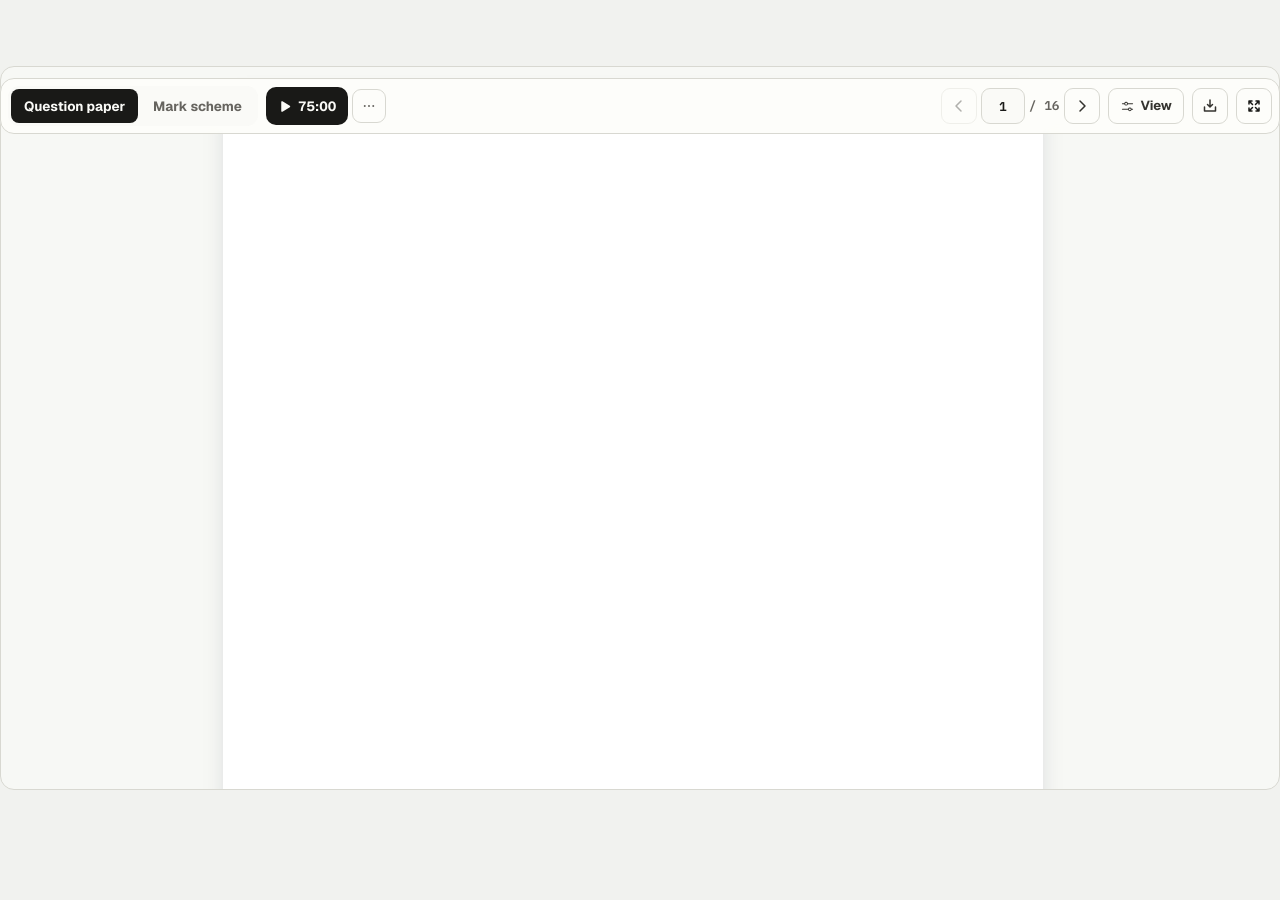
Test: PastPaperReader › clamps page input and preserves each document's reading position
The image size is (1280, 900).
Expected: the picture named "Question paper, page 1" is shown, [222,85,1042,790]
Replace the text in the number field named "Page number" with "99" at (1003, 106), box [981,88,1025,124]
Leave the number field named "Page number", box [981,88,1025,124]
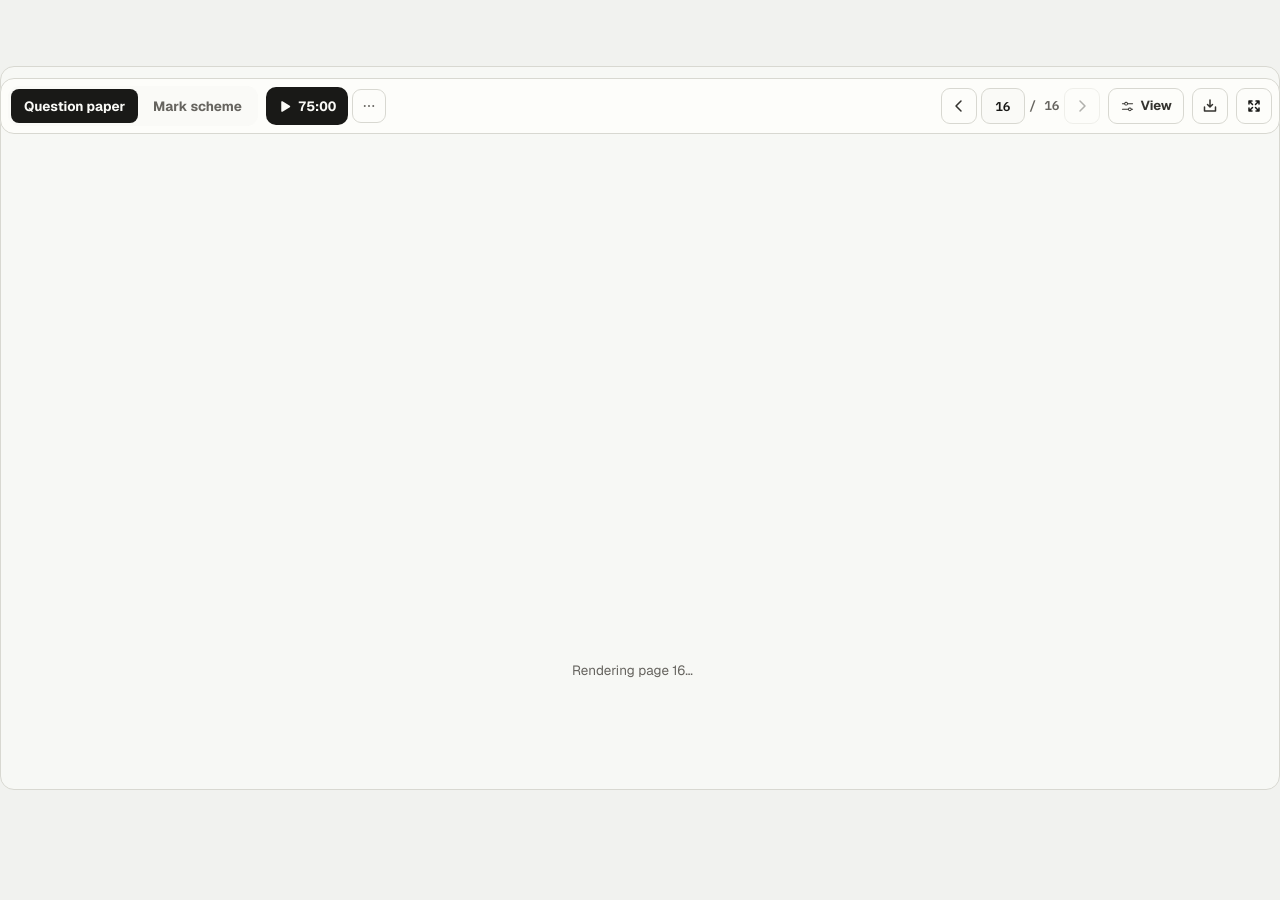
Result: the number field named "Page number" holds "16"
Result: the button named "Next page" is disabled at [1064,88,1100,124]
Replace the text in the number field named "Page number" with "0" at (1003, 106), box [981,88,1025,124]
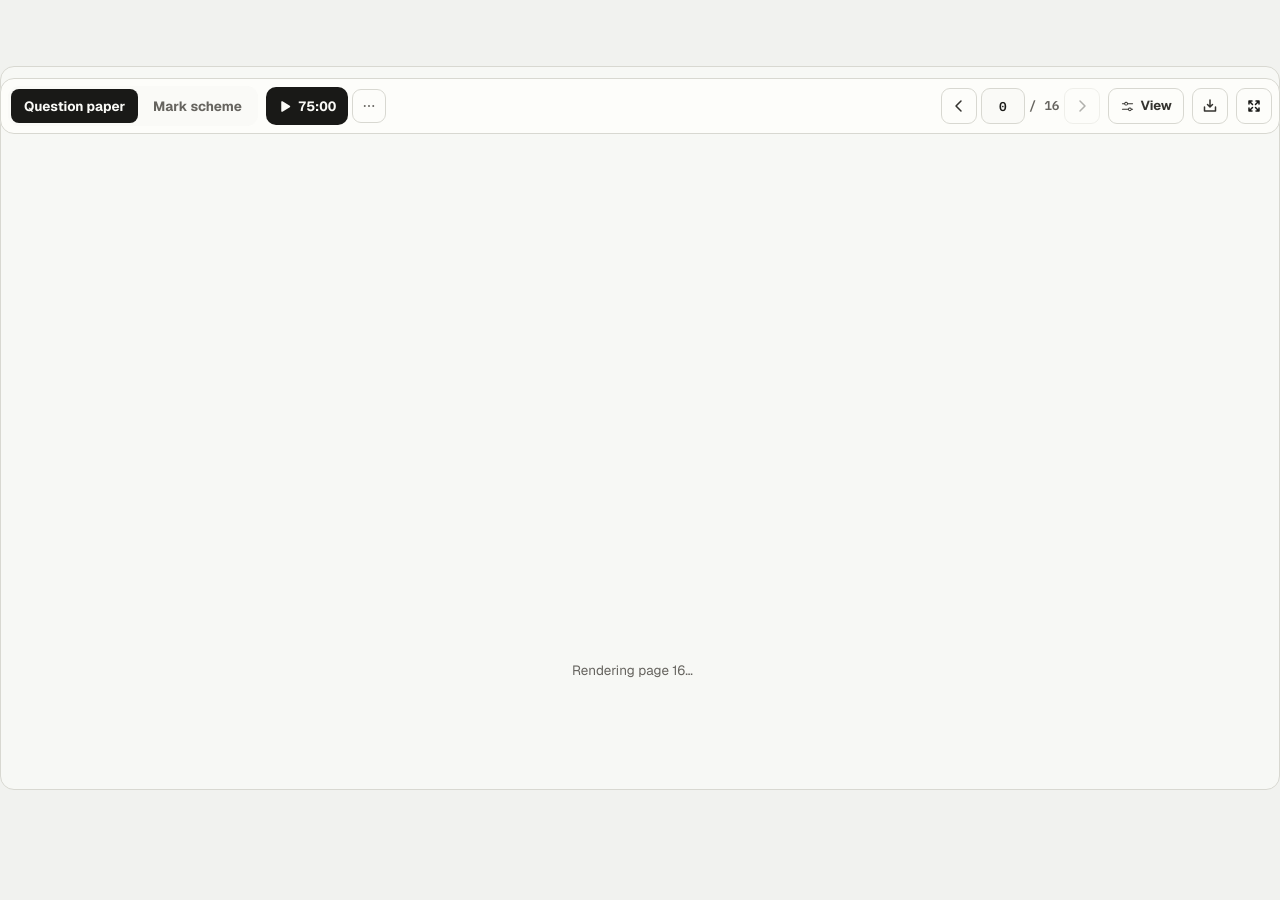
Press Enter in the number field named "Page number", box [981,88,1025,124]
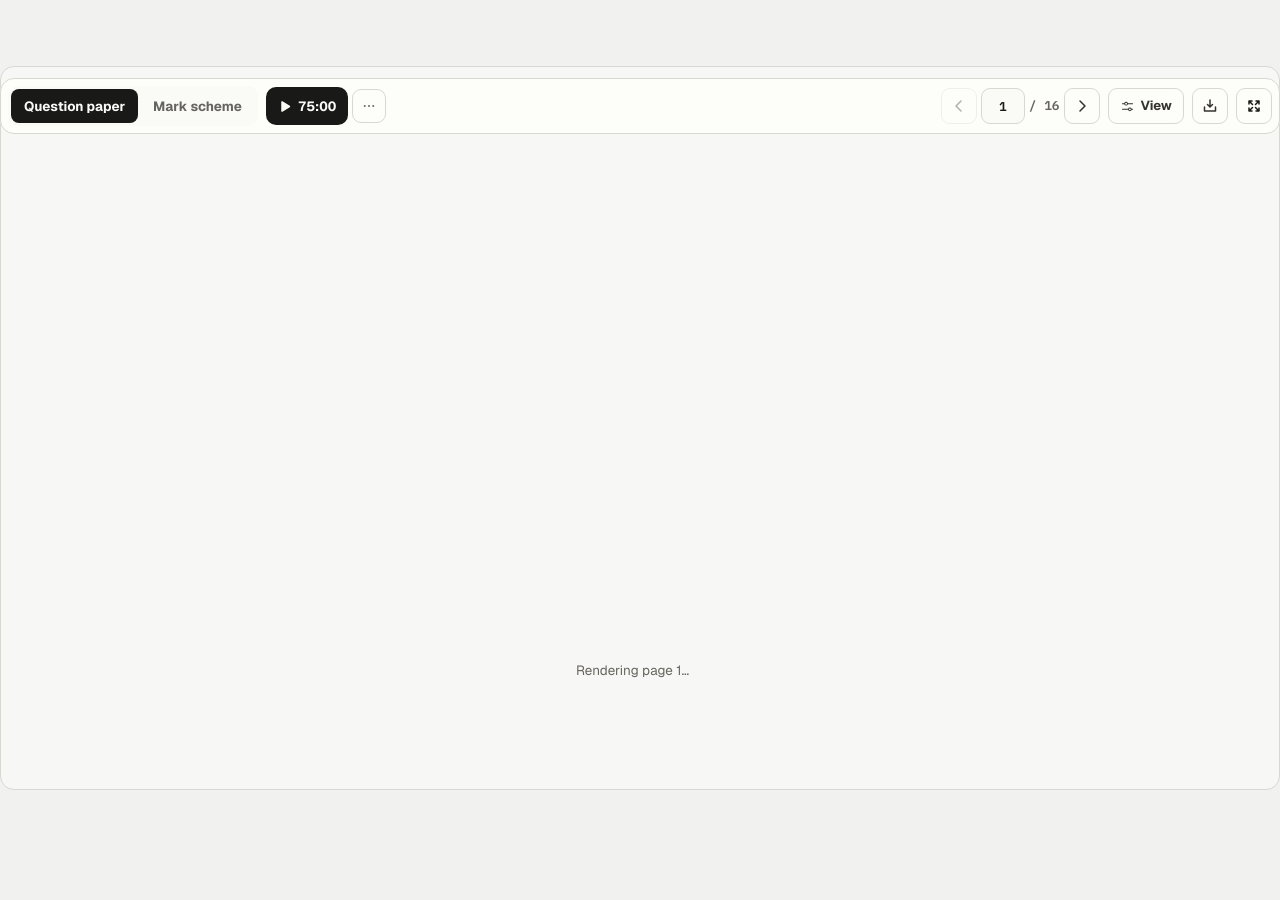
Result: the number field named "Page number" holds "1" at [981,88,1025,124]
Click the button named "Next page".
click(1082, 106)  # box [1064,88,1100,124]
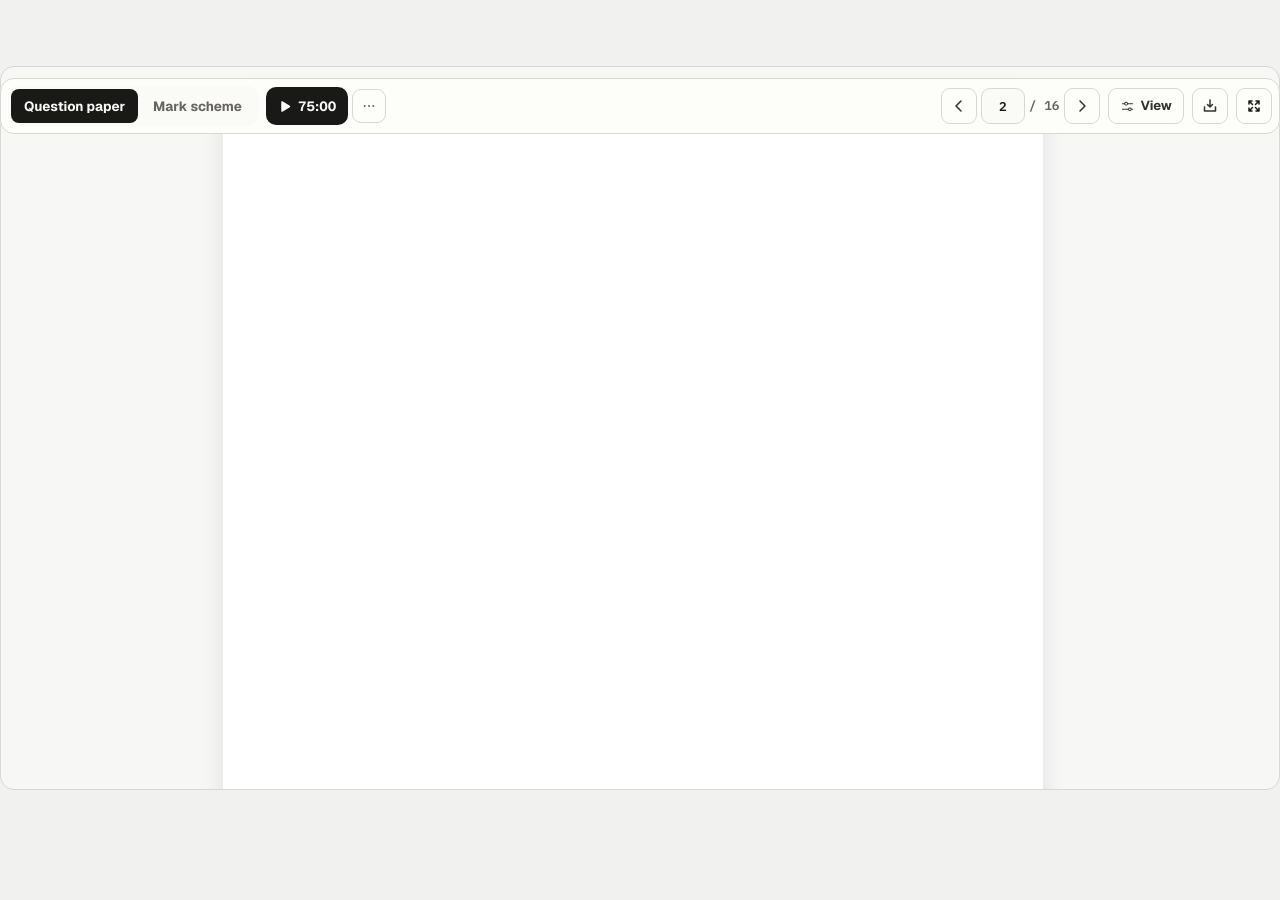
Result: the picture named "Question paper, page 2" is shown at [222,85,1042,790]
Click the tab "Mark scheme".
click(198, 106)  # box [140,89,255,123]
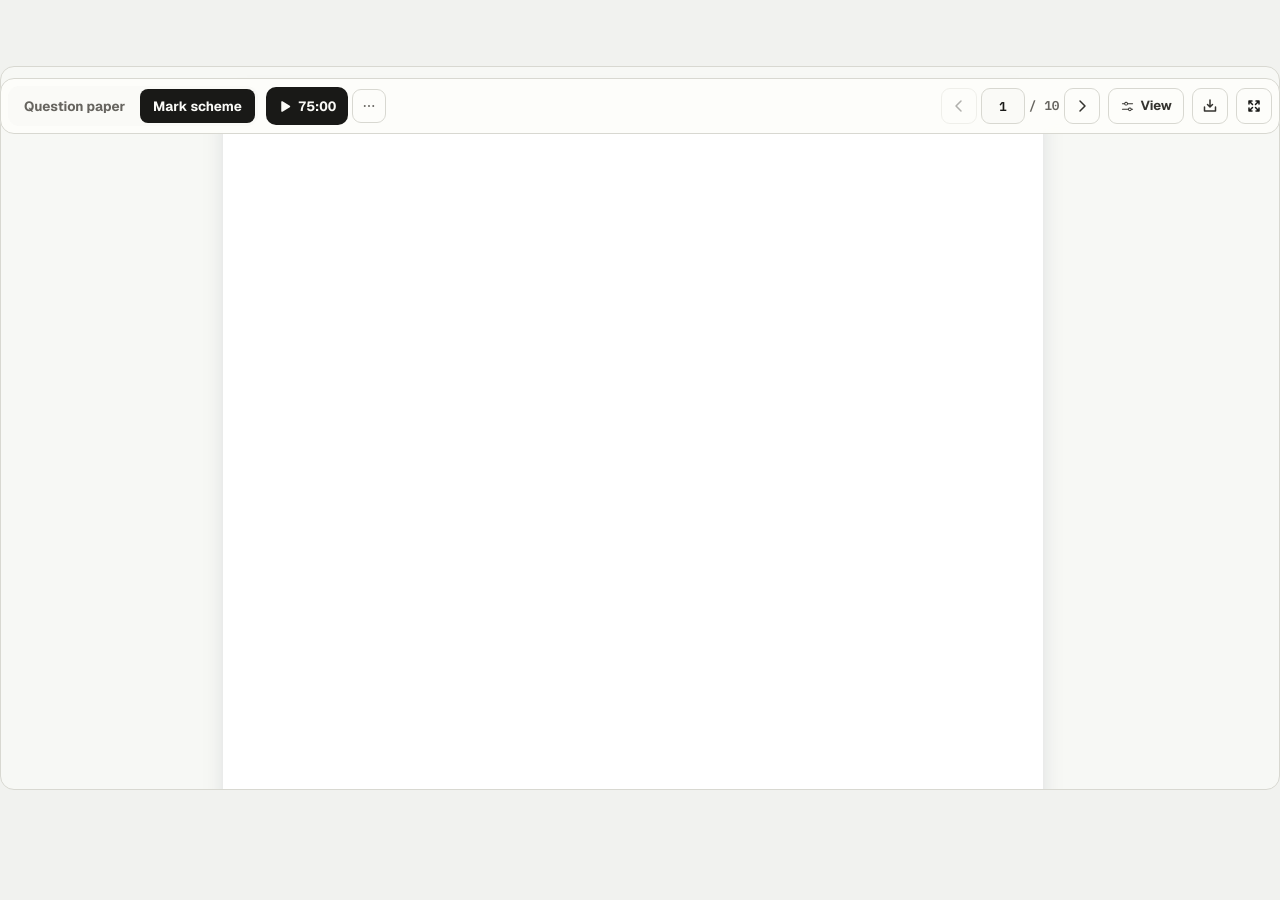
Result: the picture named "Mark scheme, page 1" is shown at [222,85,1042,790]
Click the tab "Question paper".
click(75, 106)  # box [11,89,138,123]
(page scrolled)
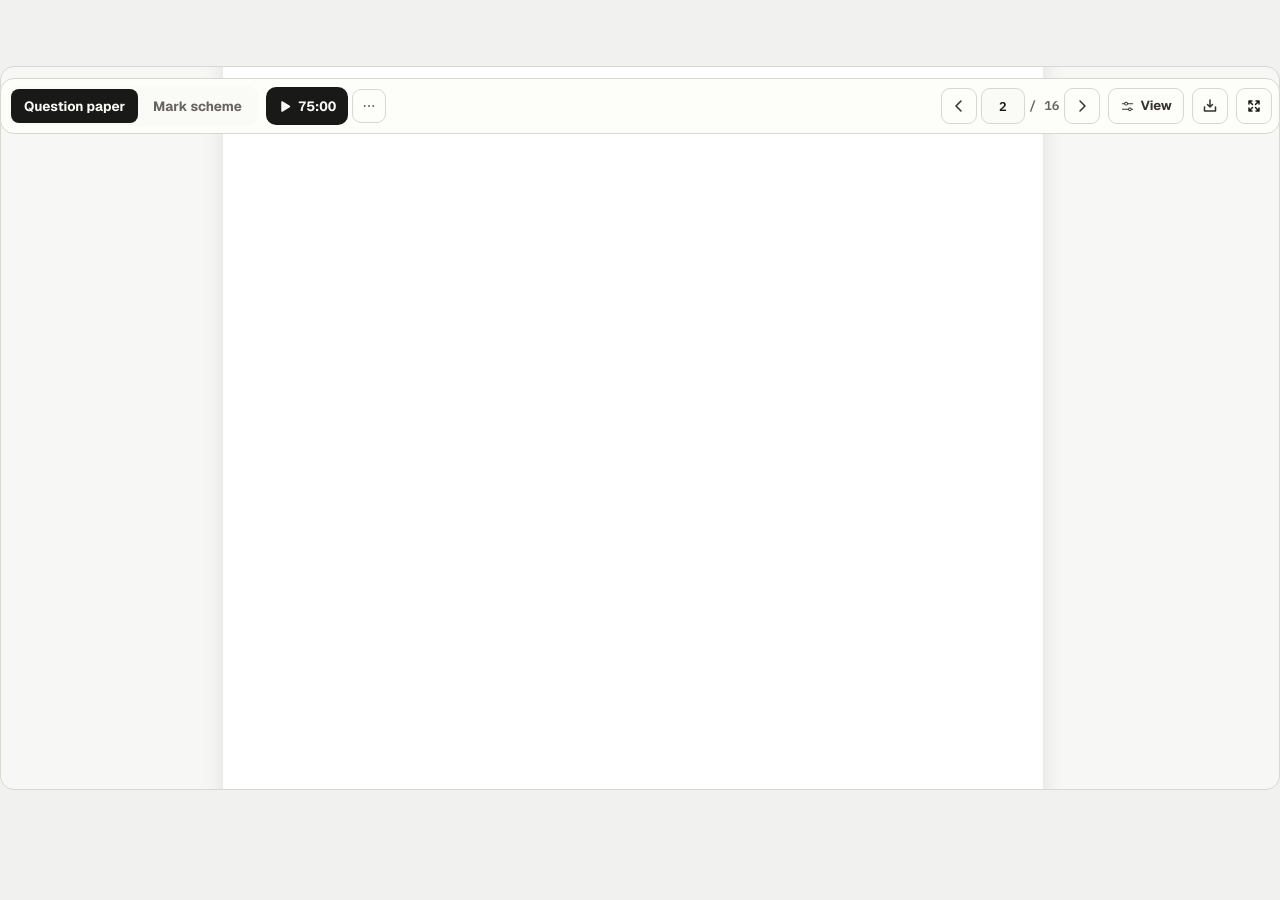
Result: the picture named "Question paper, page 2" is shown at [222,66,1042,790]
